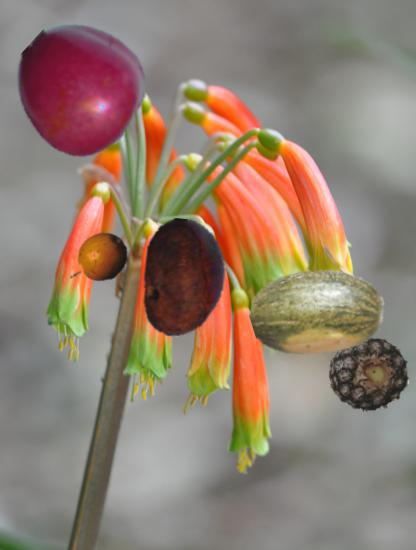Cherry: (13, 23, 144, 154)
Chestnut: (125, 219, 244, 338)
Granadilla: (65, 228, 130, 293)
Melon: (251, 246, 385, 380)
Pineapple: (328, 333, 411, 416)
